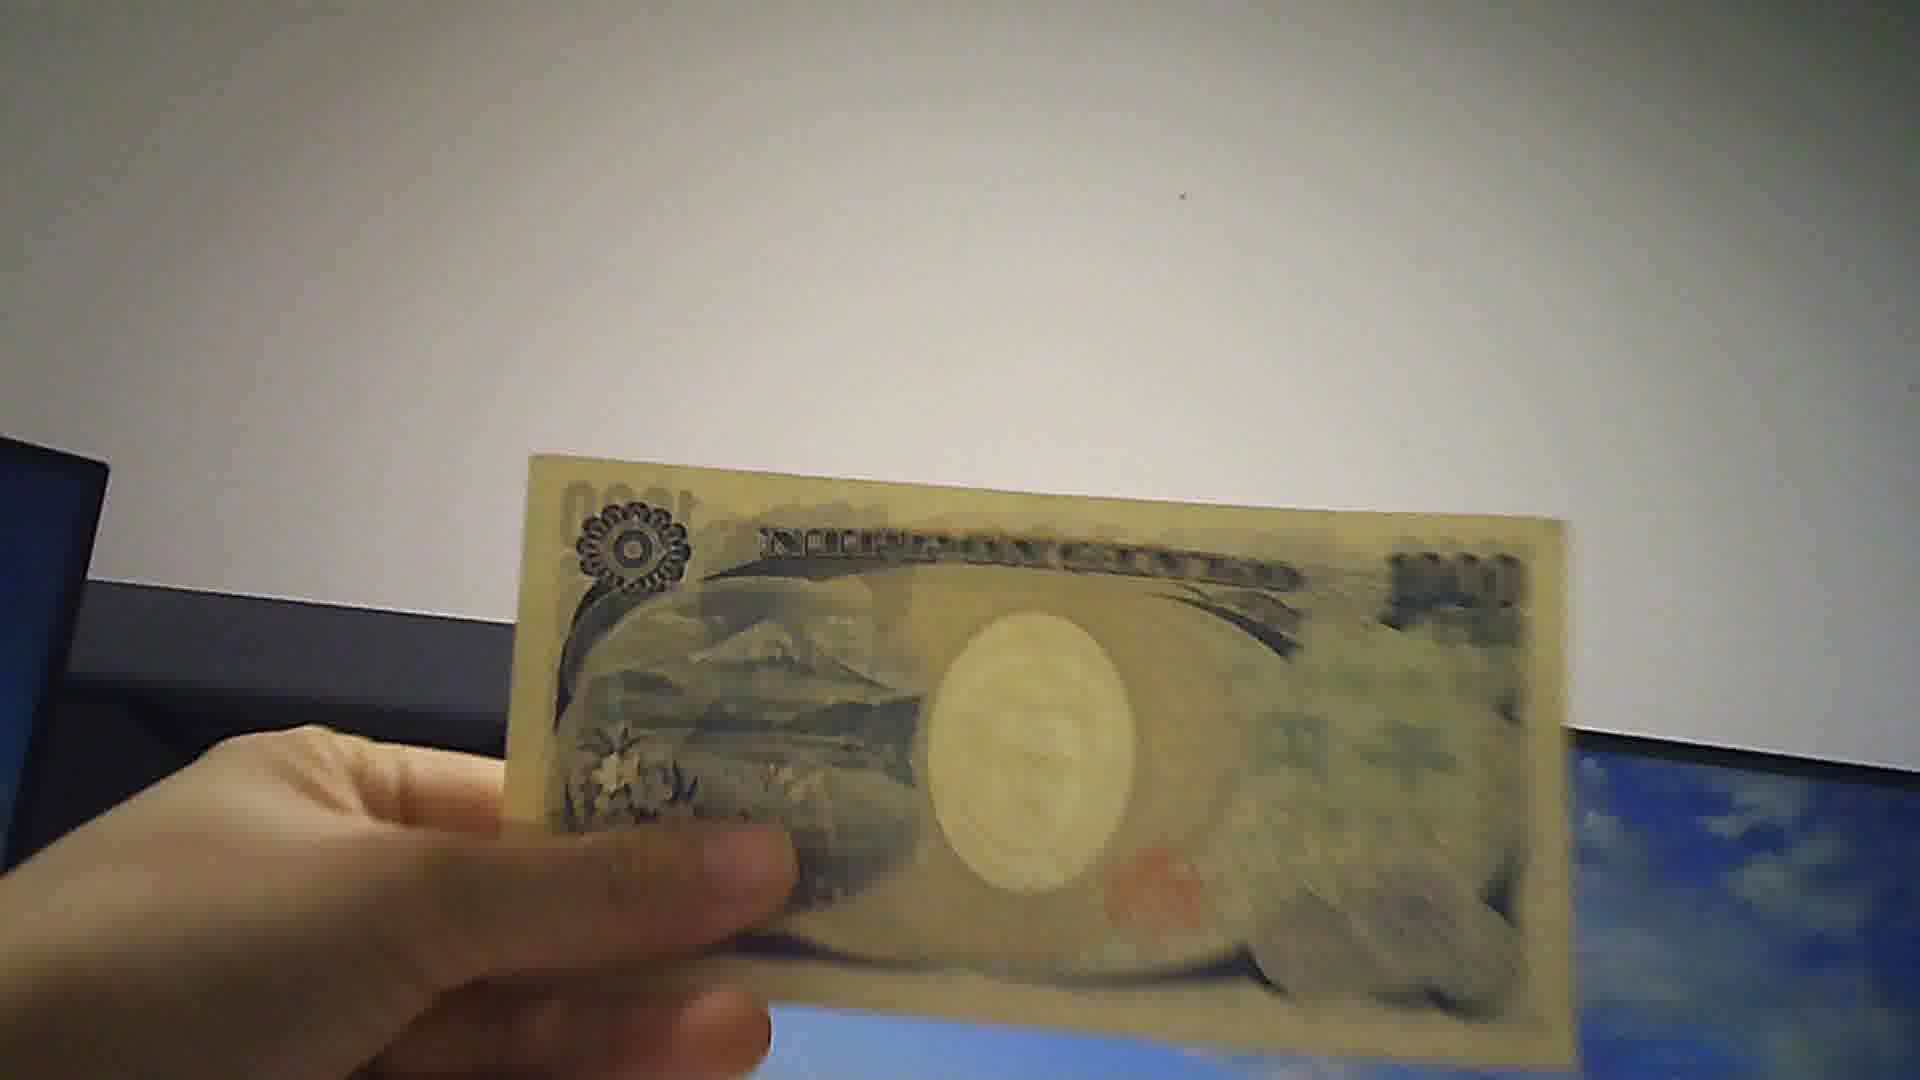1,000 Yen: (491, 429, 1571, 1064)
